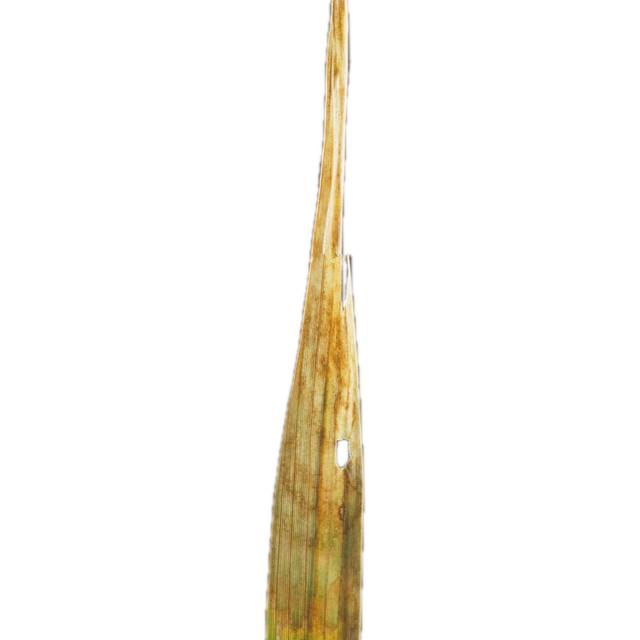Leaf scald: (224, 0, 476, 640)
